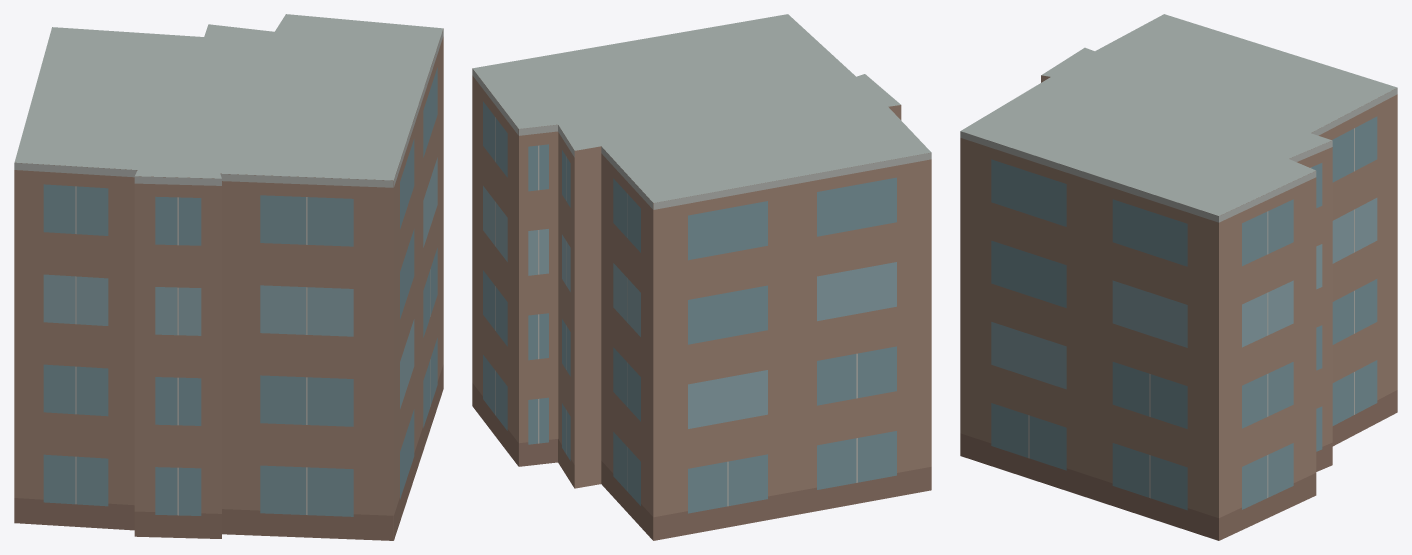
Rendered from survey-upis-32674798.glb.
3 renders of one model, left to right at view 1: azimuth 30°, elevation 25°; view 2: azimuth 150°, elevation 25°; view 3: azimuth 270°, elevation 25°, orthographic. The views are drawn at different scales.
Parts seen in each view (by area): view 1: survey-upis-32674798.tmp; view 2: survey-upis-32674798.tmp; view 3: survey-upis-32674798.tmp.
Part boxes in pixels (x1,y1,x2,y2): survey-upis-32674798.tmp: (14, 14, 443, 540); survey-upis-32674798.tmp: (472, 14, 931, 540); survey-upis-32674798.tmp: (960, 14, 1397, 540).
Size of the model in its own units: 16.02 by 12 by 14.65.
